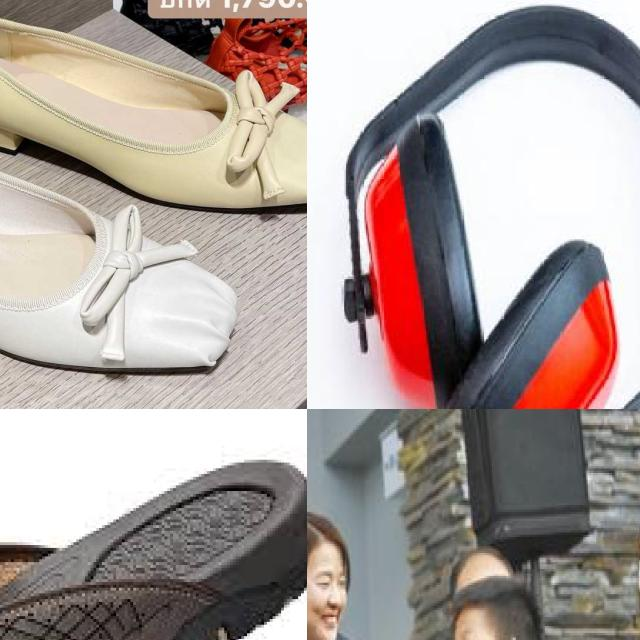Ear-protection: (321, 9, 640, 409)
Sandals: (0, 69, 259, 397), (0, 0, 307, 229), (0, 437, 307, 640)
face_nomask: (307, 562, 348, 640)
head_nohelmet: (434, 544, 514, 583), (449, 594, 538, 629), (307, 516, 352, 559), (618, 498, 640, 534)
